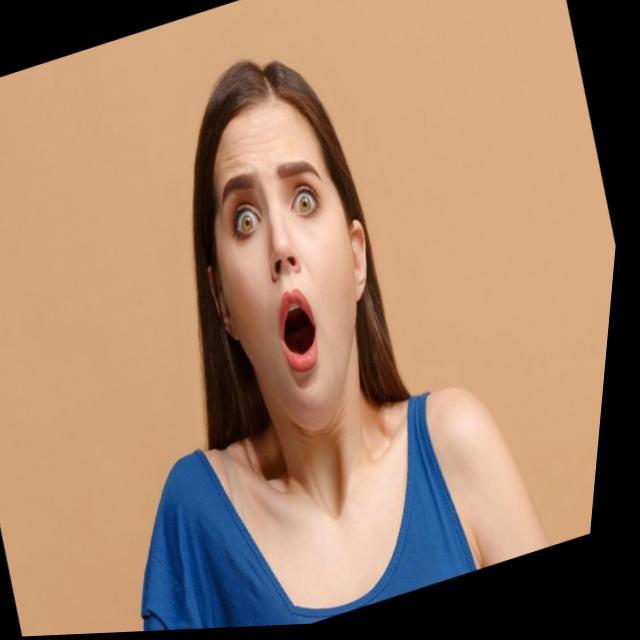Nonhelmet: (186, 57, 413, 450)
